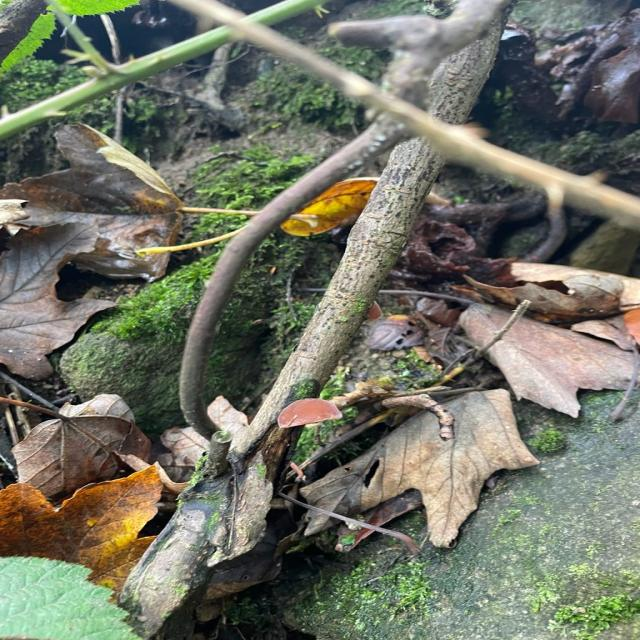Matang: (274, 395, 346, 434)
